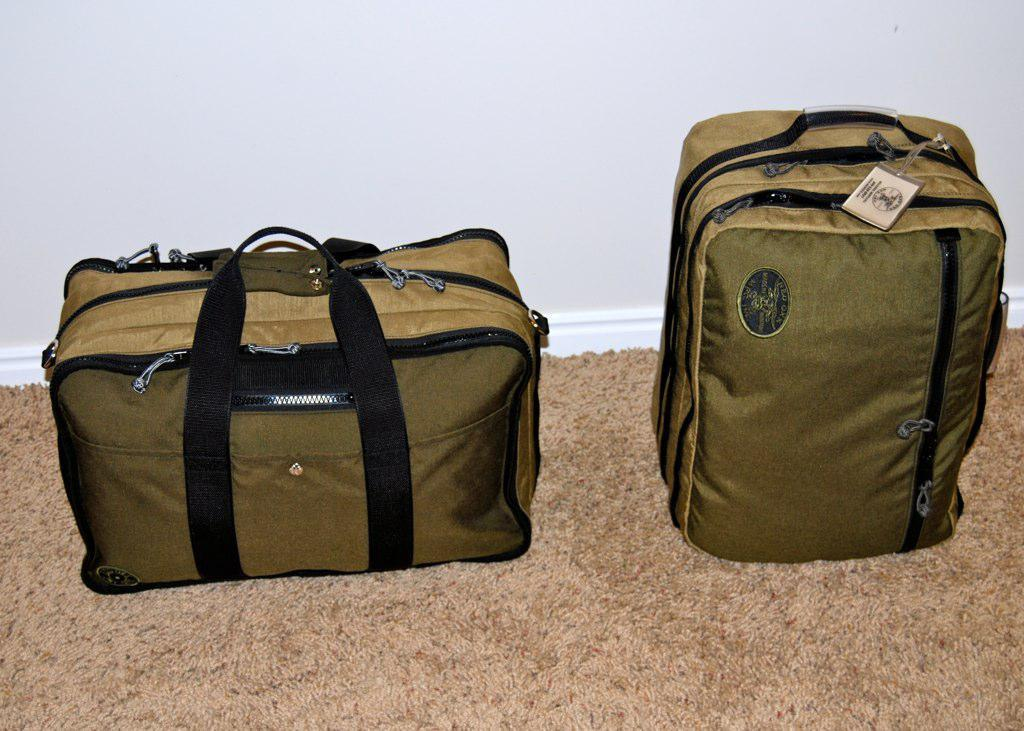Luggage-and-bags: (41, 227, 551, 594), (645, 103, 1008, 553)
